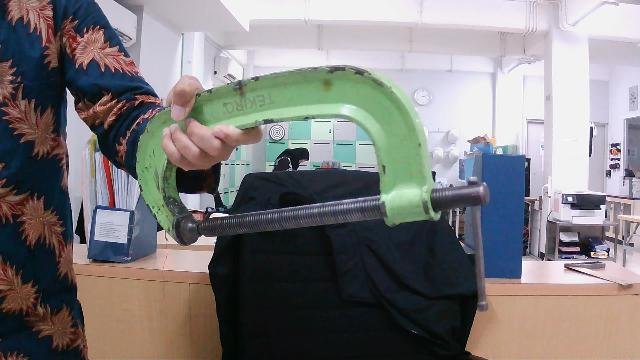tekiro_c_clamp: (132, 58, 498, 255)
